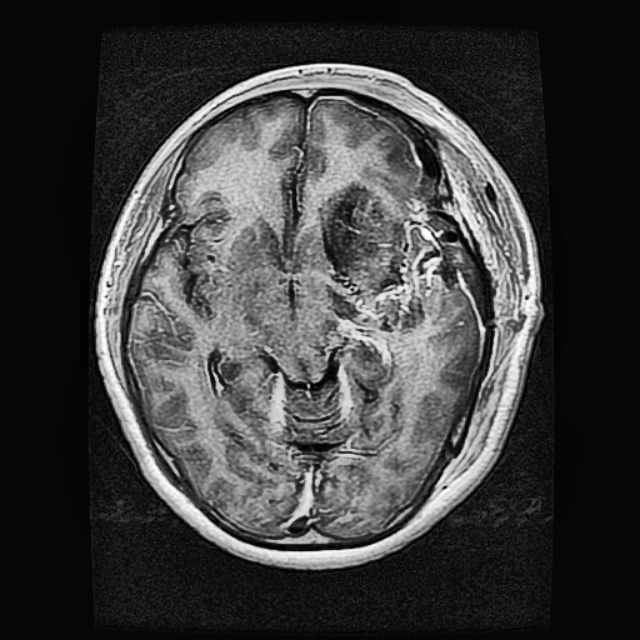Pituitary: (317, 185, 482, 329)
